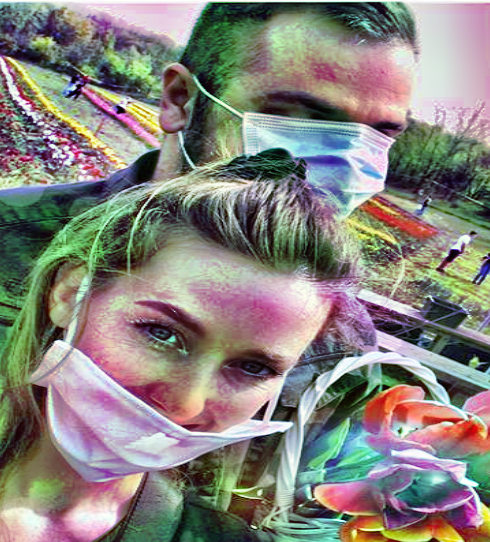mask_weared_incorrect: (35, 190, 336, 482), (158, 2, 428, 224)
